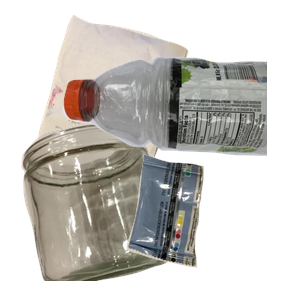glass: (19, 120, 184, 300)
paper: (33, 12, 214, 192)
plastic: (60, 53, 300, 201)
trash: (124, 152, 300, 300)
